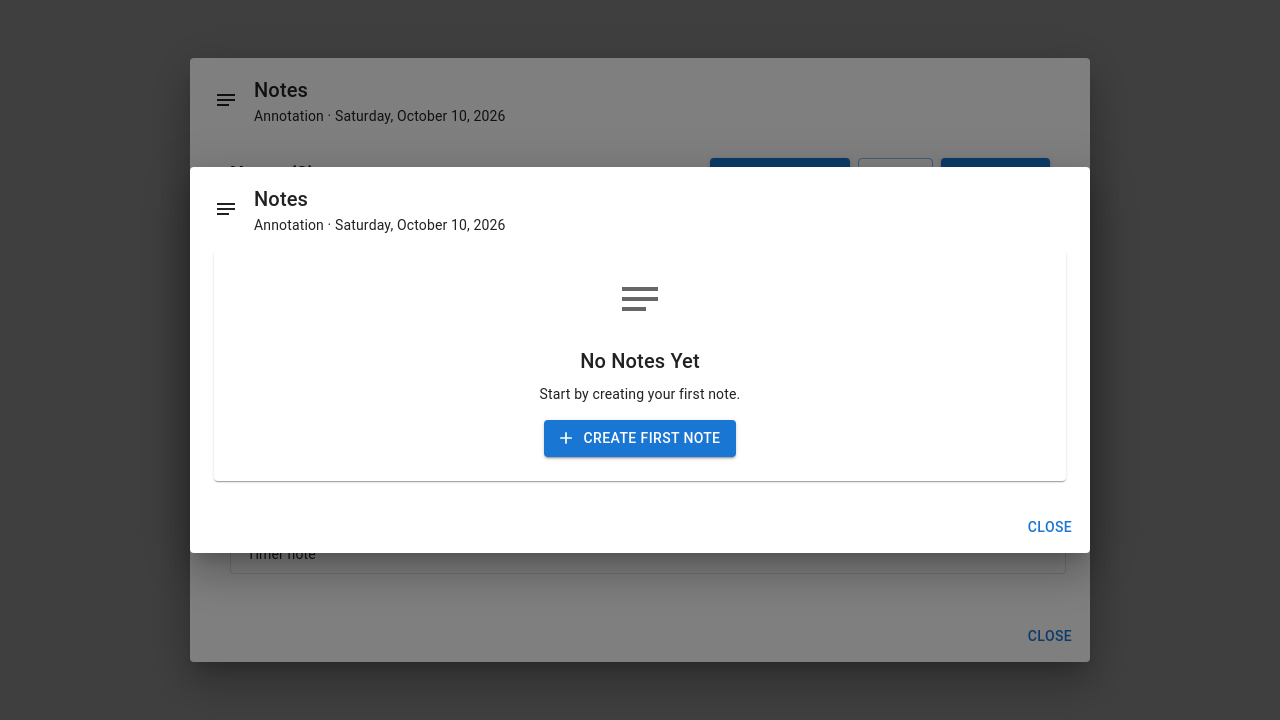
Test: SessionNotesDialog › adds a session note that every other reader sees at once
This screenshot has width=1280, height=720.
Step 1. Click the button "Create First Note" → (640, 438), box 544,420 -> 736,456
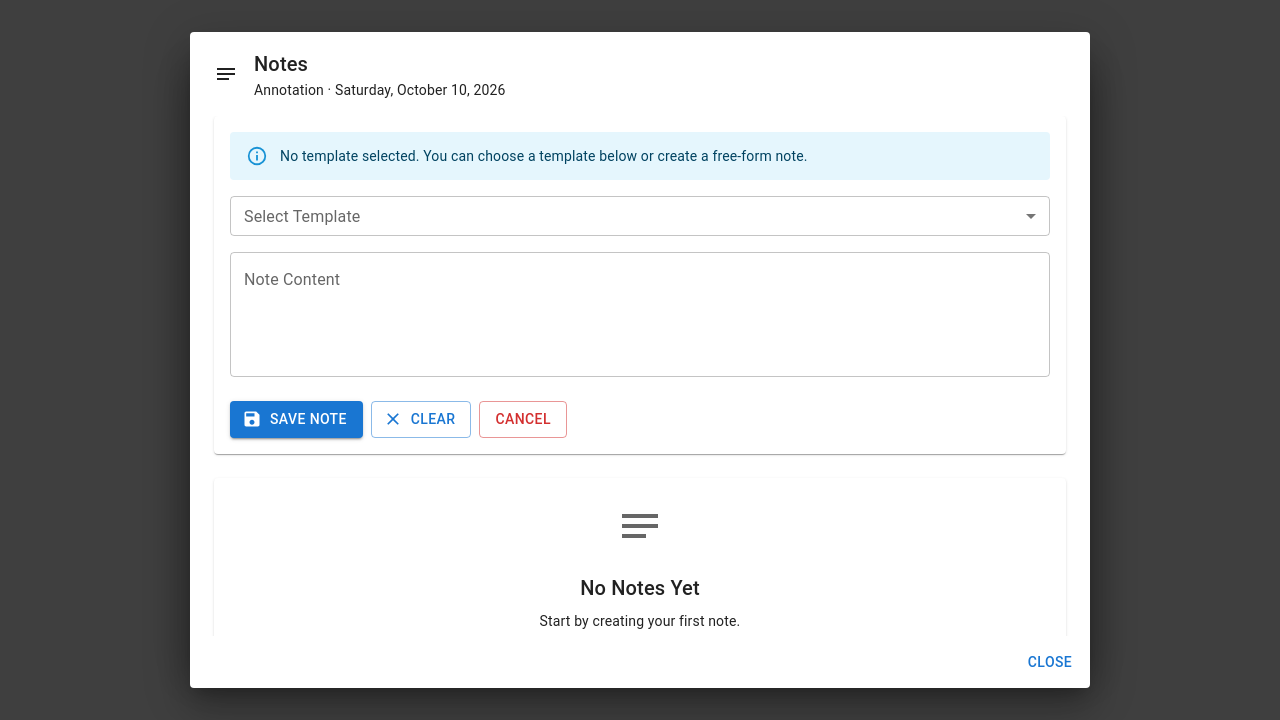
Step 2. Type "Labelled batch 7" into the text box labelled "Note Content" → (640, 314), box 244,268 -> 1036,360
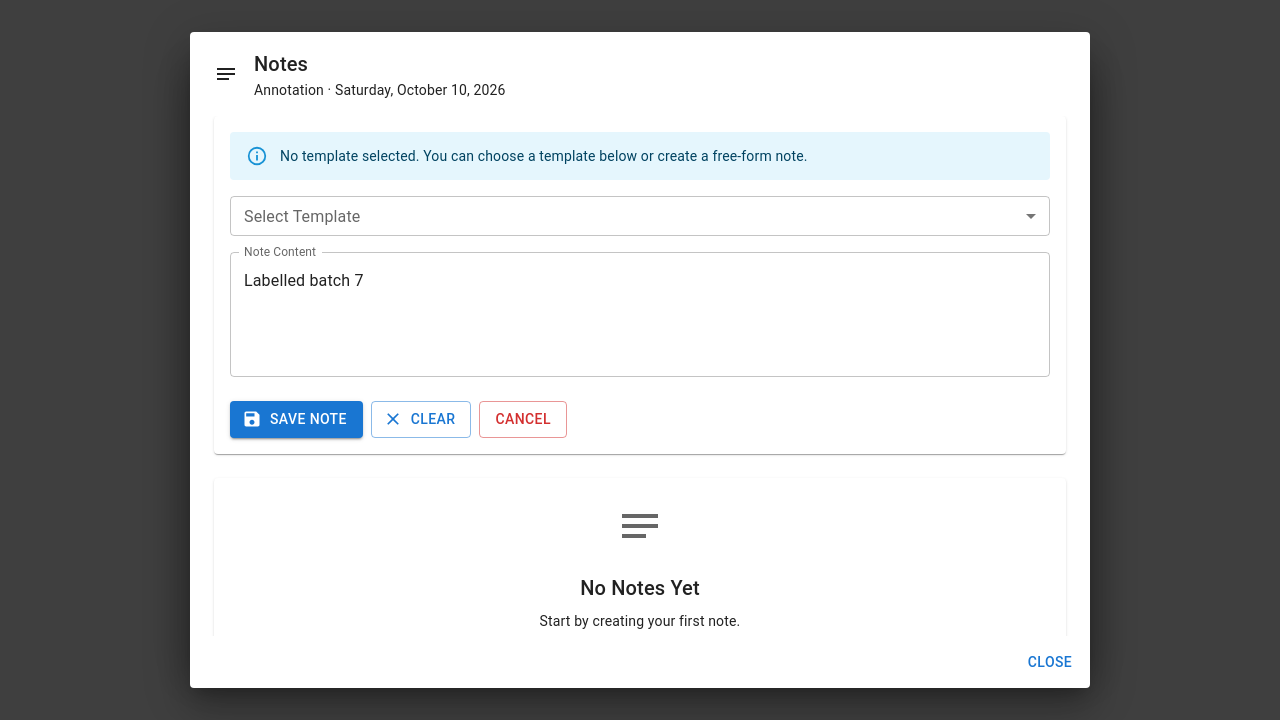
Step 3. Click the button "Save Note" → (296, 419), box 230,401 -> 363,438
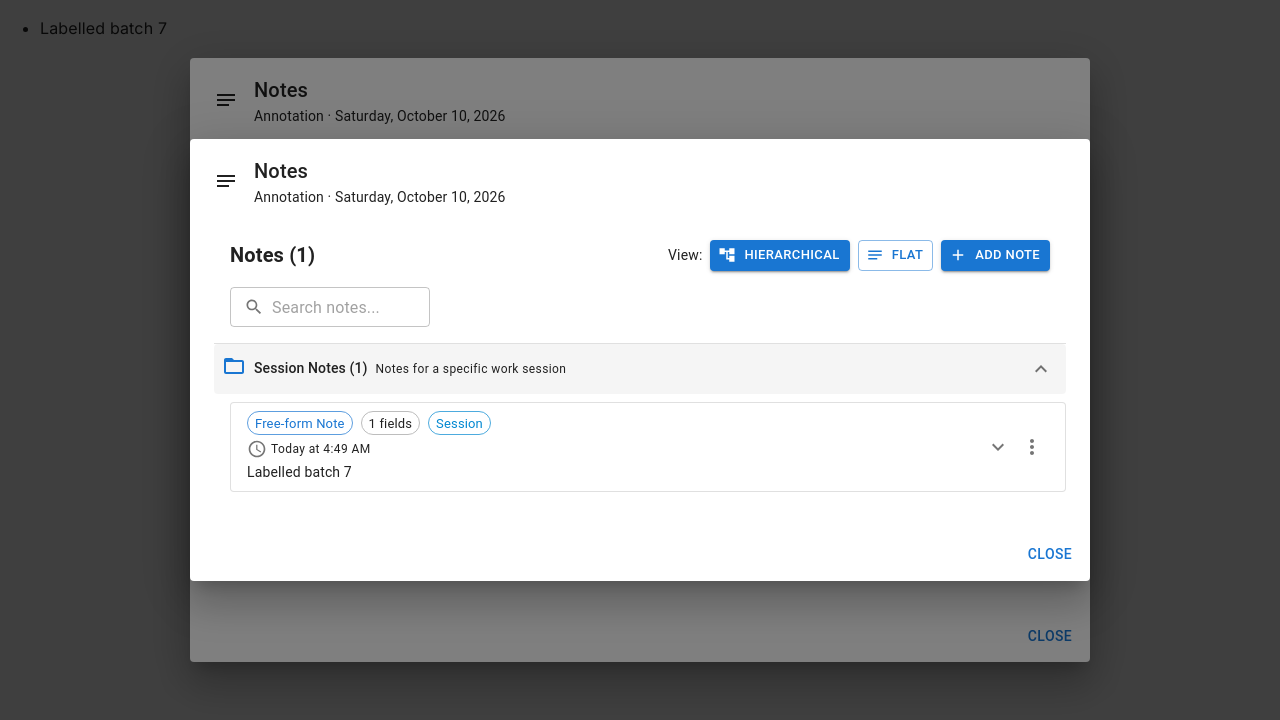
Expected: the list item "Labelled batch 7" is shown, 40,18 -> 167,38
